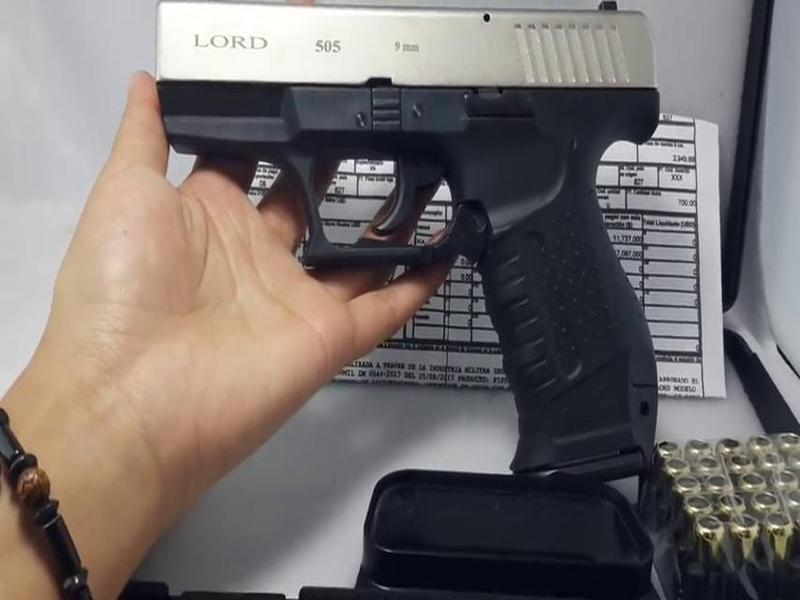Pistola: (138, 9, 710, 462)
